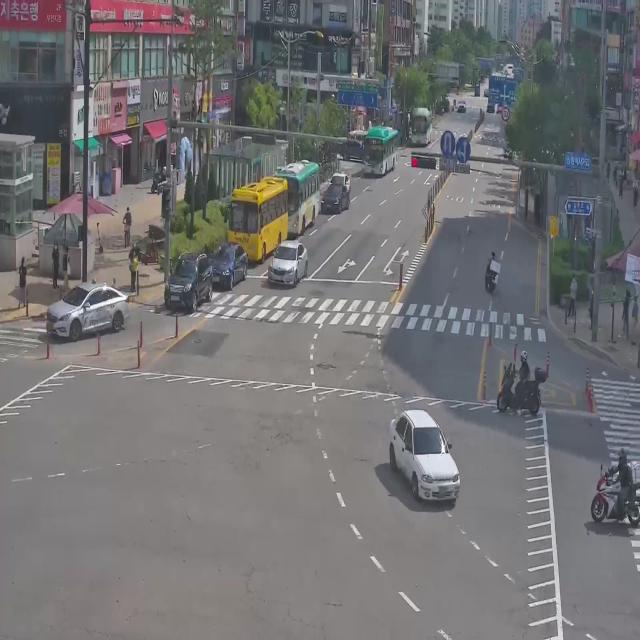Bus: (266, 146, 324, 243), (224, 176, 287, 261), (358, 114, 401, 180), (408, 98, 441, 152)
Car: (388, 408, 461, 503), (46, 280, 130, 342), (164, 251, 212, 312), (268, 240, 308, 286), (210, 242, 248, 290), (320, 183, 351, 215), (328, 164, 351, 196)
Motorcycle: (590, 447, 640, 527), (496, 350, 548, 415), (483, 250, 501, 295)
